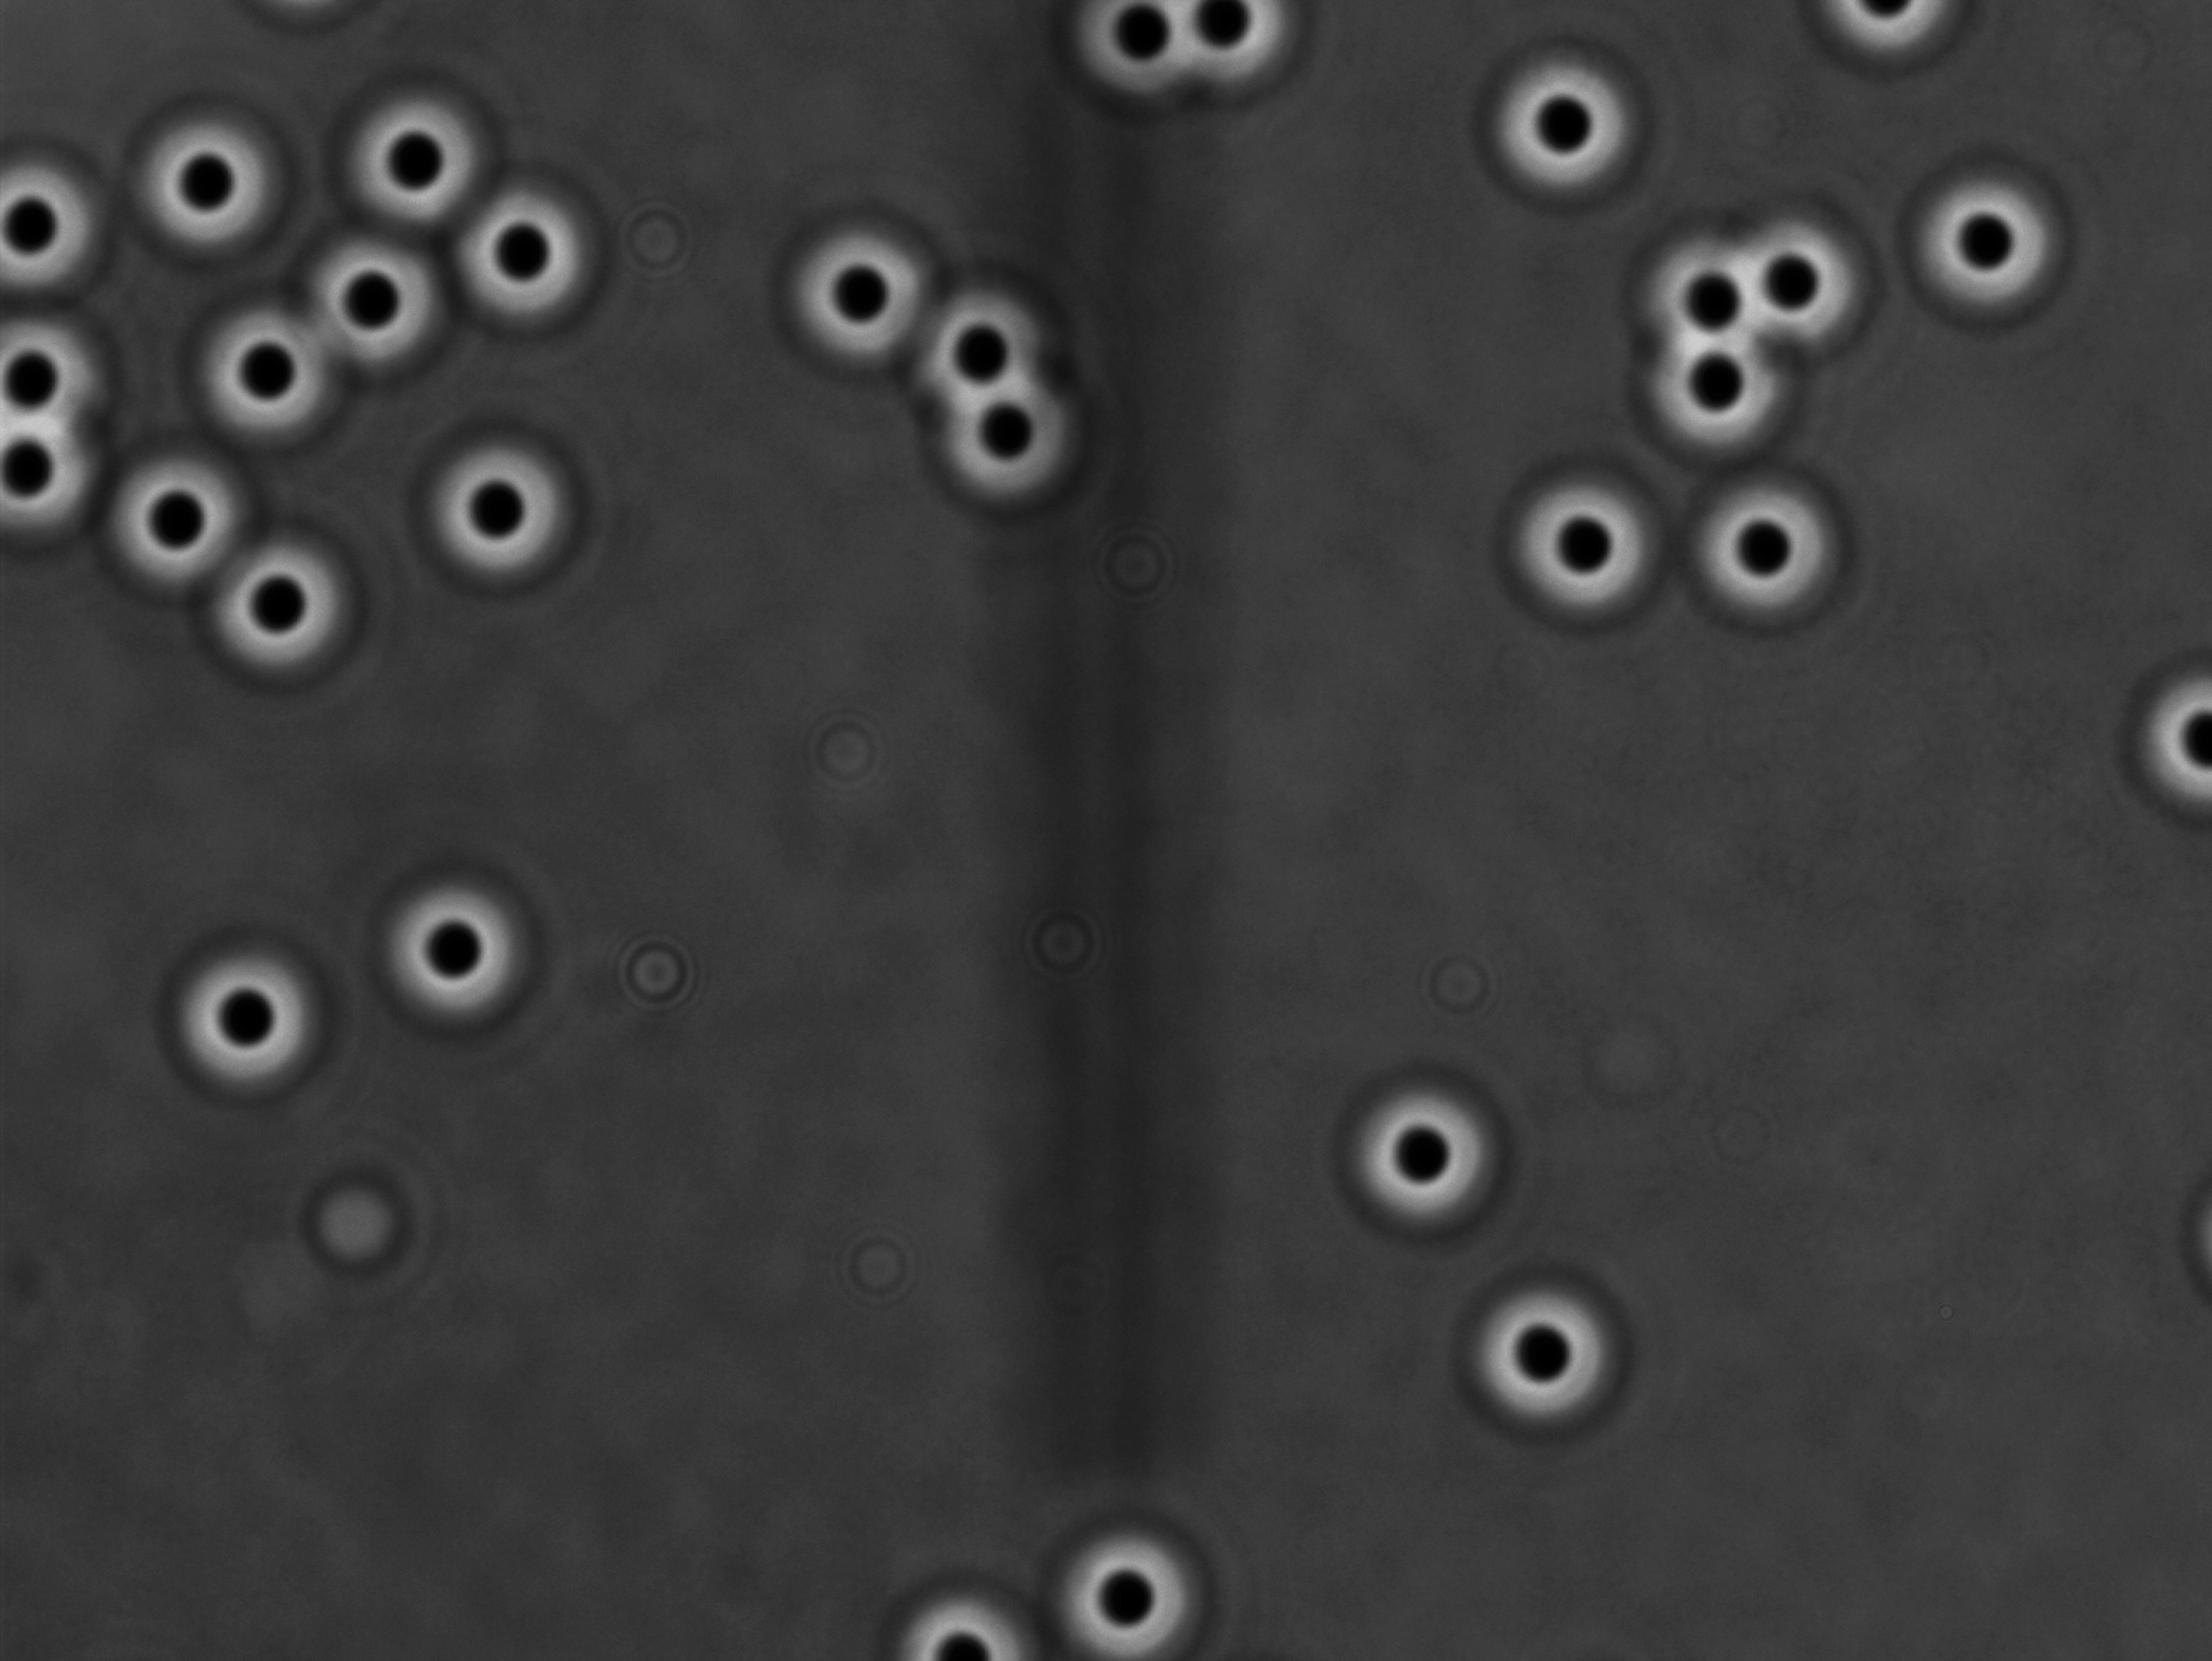depth:-60: (408, 419, 588, 604), (157, 923, 344, 1101), (1338, 1068, 1514, 1246), (1453, 1260, 1636, 1431), (1486, 461, 1652, 630), (450, 169, 609, 342), (1903, 174, 2081, 328), (373, 872, 539, 1036), (776, 211, 946, 370), (178, 291, 349, 448), (340, 70, 501, 236), (1717, 188, 1867, 363), (1483, 51, 1636, 216), (91, 447, 256, 598), (131, 112, 293, 265), (1689, 462, 1844, 621), (293, 227, 450, 382), (1052, 1516, 1219, 1661), (1633, 319, 1792, 471), (202, 536, 361, 684), (1626, 222, 1776, 372), (2120, 665, 2212, 818)
